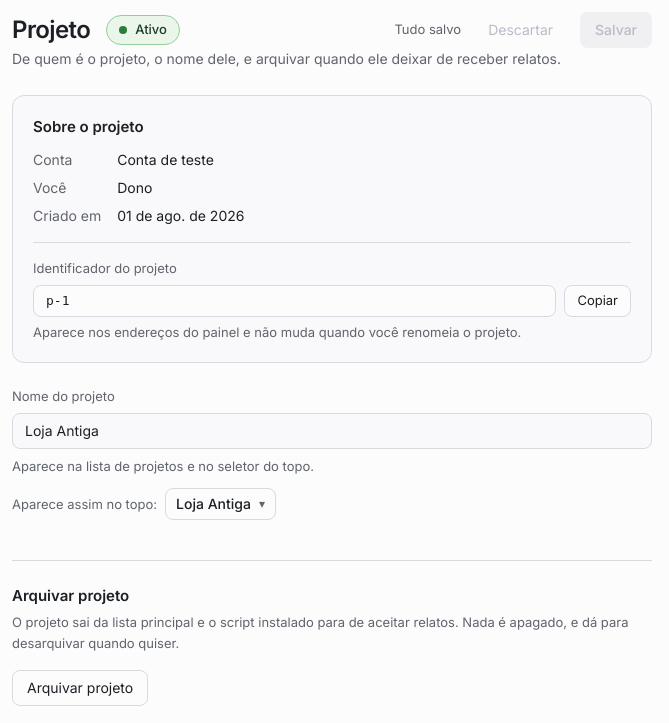
ProjectSettingsScreen › a prévia do topo acompanha o rascunho do nome
Expected: the text "Loja Antiga" is shown, x1=176 y1=494 x2=251 y2=514
Replace the text in the field labelled "Nome do projeto" with "Loja Renomeada". click: point(332, 431)
box: x1=12 y1=413 x2=652 y2=449
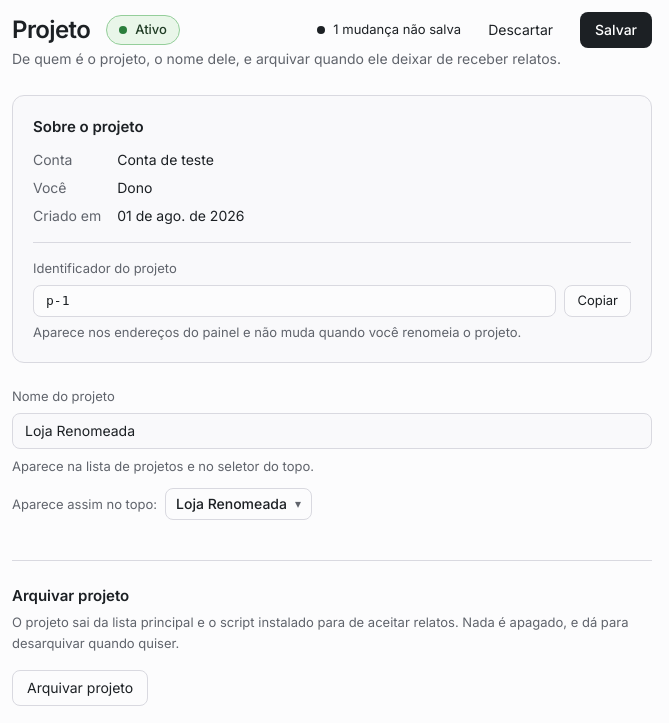
Now the text "Loja Renomeada" is shown, box x1=176 y1=494 x2=287 y2=514
Now the text "Loja Antiga" is gone
